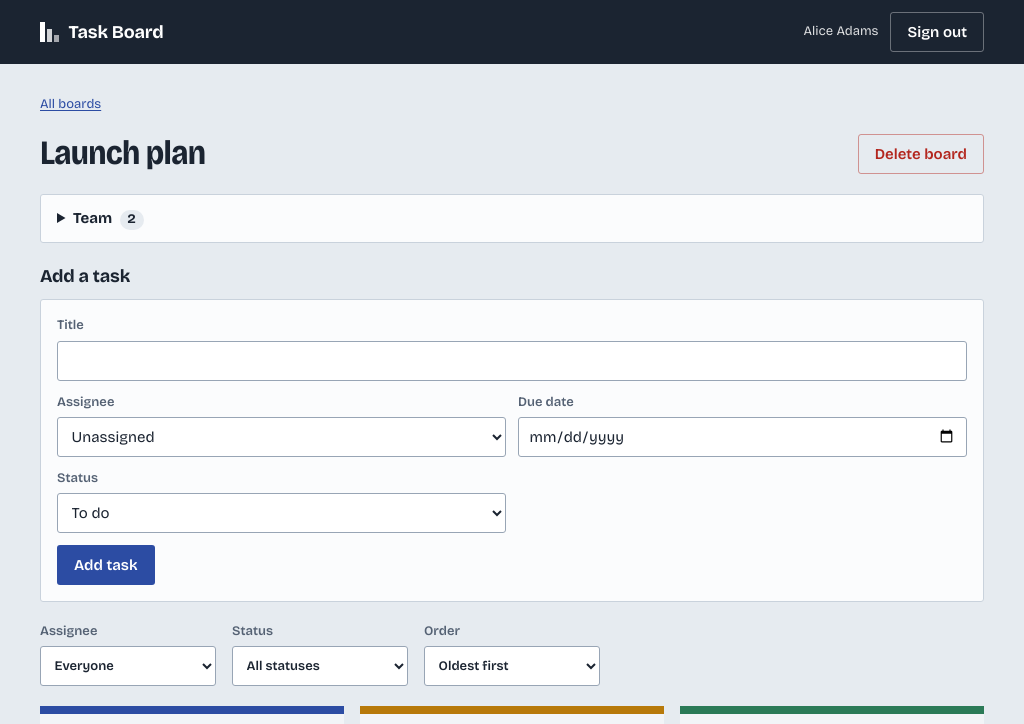
Board page › validates the new-task form instantly and sends nothing while it's invalid
This screenshot has width=1024, height=724.
Click the button "Add task" at (106, 565), box [57, 545, 155, 585]
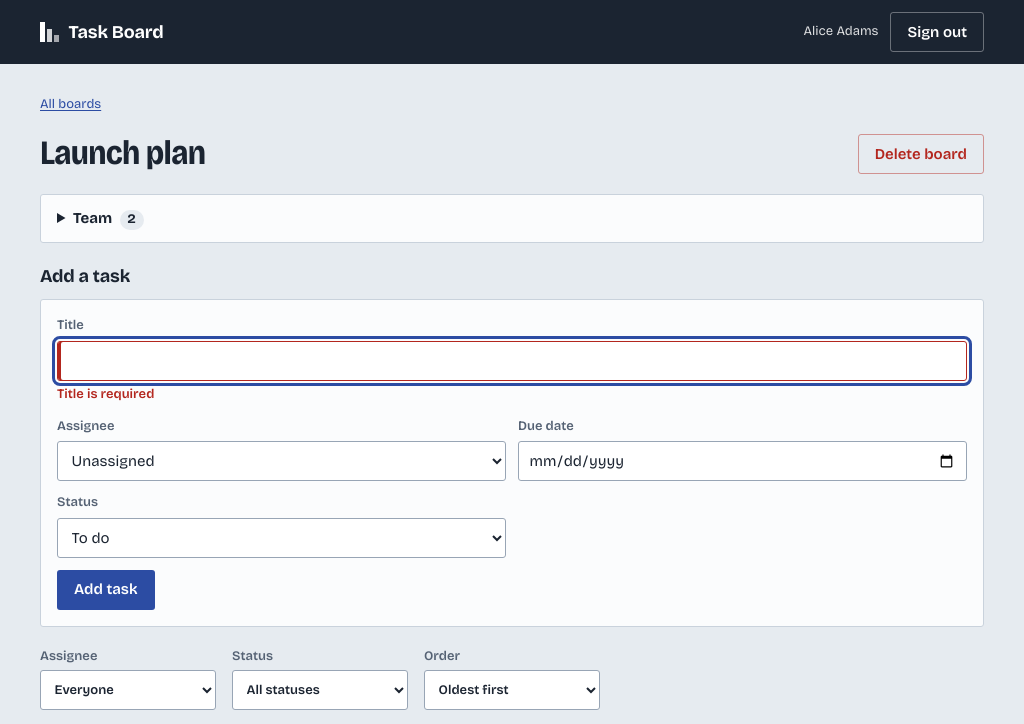
Expected: the text "Title is required" is shown, [57, 386, 154, 402]
